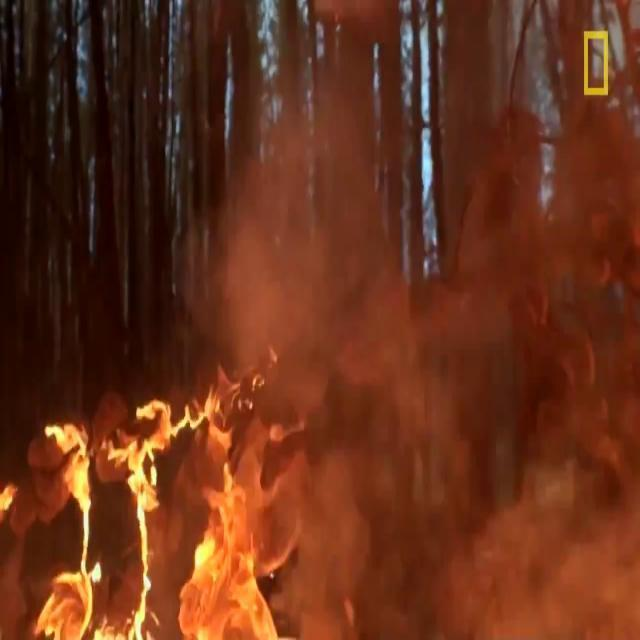Fire: (36, 397, 312, 640)
Smoke: (312, 136, 621, 618), (340, 213, 640, 640), (187, 71, 442, 381)
